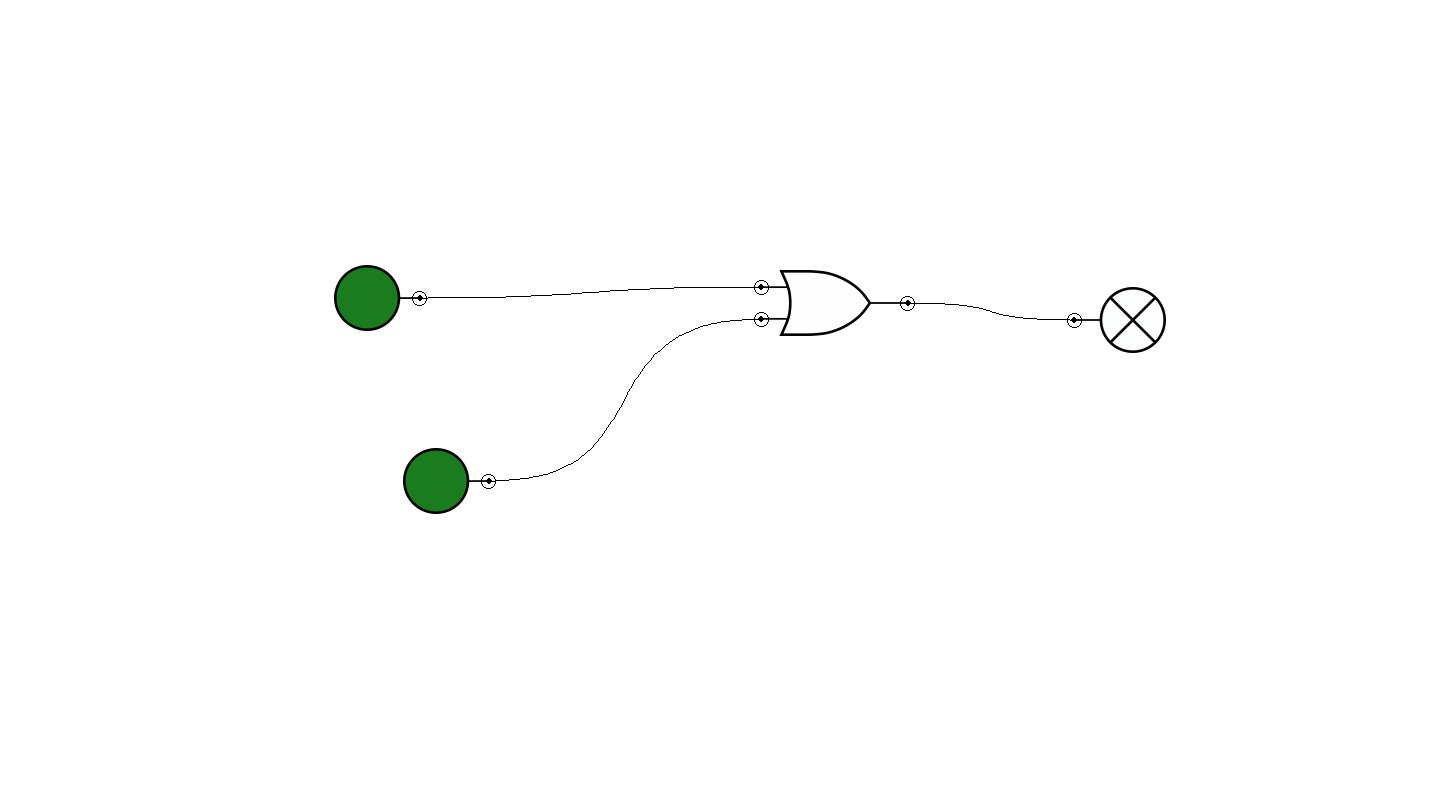bulb: (1067, 287, 1166, 353)
or: (754, 270, 915, 336)
switch_True: (334, 265, 427, 331), (403, 448, 496, 514)
